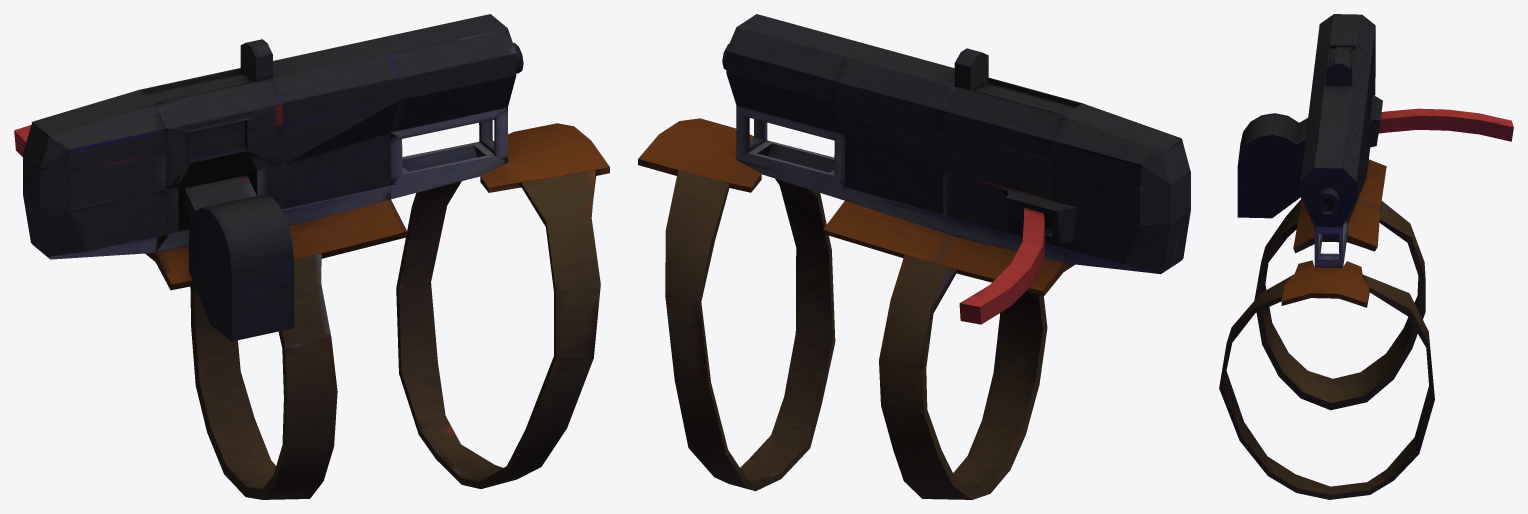
Rendered from HoofGun.fbx.
The picture shows the model from 3 angles, left to right: view 1: azimuth 30°, elevation 25°; view 2: azimuth 150°, elevation 25°; view 3: azimuth 270°, elevation 25°; orthographic projection. The views are drawn at different scales.
Parts seen in each view (by area): view 1: MainGun2.001; view 2: MainGun2.001; view 3: MainGun2.001.
Part boxes in pixels (bbox=[...]): MainGun2.001: bbox=[14, 14, 609, 499]; MainGun2.001: bbox=[638, 14, 1190, 499]; MainGun2.001: bbox=[1219, 14, 1513, 499].
Size of the model in its own units: 32 by 27.57 by 20.51.
